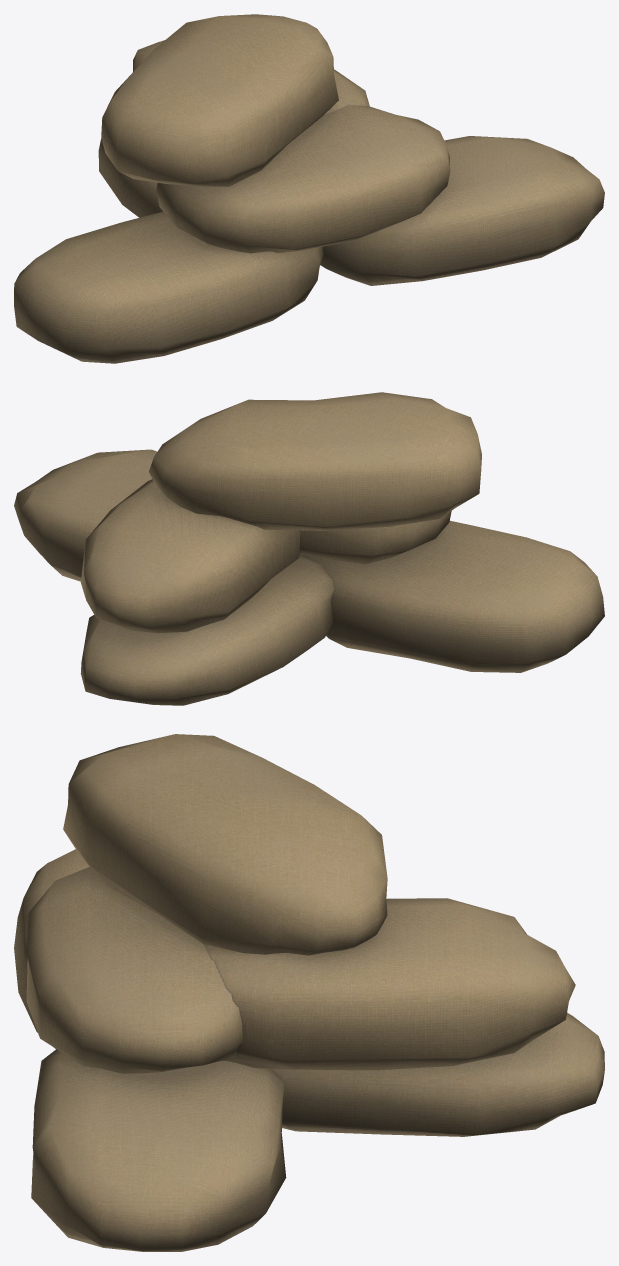
The model's file is sandbag_stack.glb.
The picture shows the model from 3 angles, top to bottom: view 1: azimuth 30°, elevation 25°; view 2: azimuth 150°, elevation 25°; view 3: azimuth 270°, elevation 25°; orthographic projection. The views are drawn at different scales.
Visible parts, largest first — view 1: sandbag_stack; view 2: sandbag_stack; view 3: sandbag_stack.
Part boxes in pixels (box(x1,y1,x2,y2)): sandbag_stack: box(14, 14, 604, 363); sandbag_stack: box(14, 392, 604, 705); sandbag_stack: box(14, 734, 604, 1251).
Bounding box in the file's own units: 1.1 × 0.4073 × 0.7784.
Materials: 1 (1 with a texture image).
